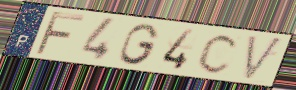4: (78, 15, 119, 64), (158, 27, 194, 71)
C: (195, 33, 241, 76)
F: (32, 10, 87, 57)
G: (117, 22, 161, 66)
V: (242, 34, 286, 83)
